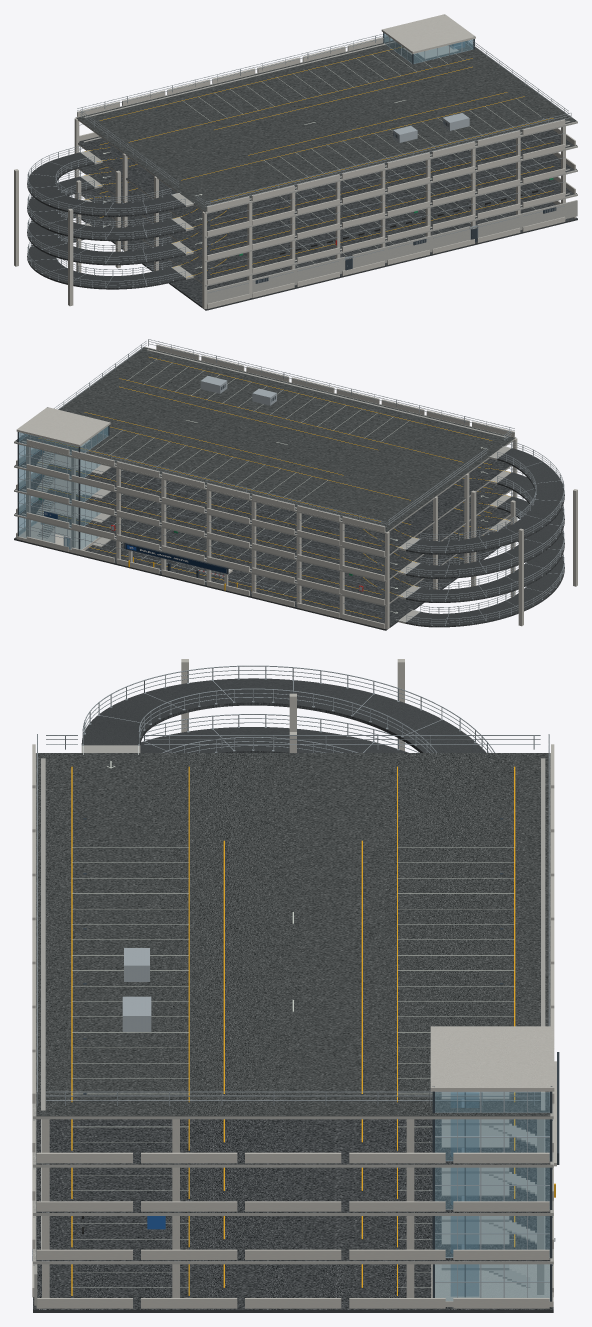
Rendered from RAIL09_lod2.glb.
3 renders of one model, top to bottom at view 1: azimuth 30°, elevation 25°; view 2: azimuth 150°, elevation 25°; view 3: azimuth 270°, elevation 25°, orthographic. The views are drawn at different scales.
Parts seen in each view (by area): view 1: Roof_WearingCourse__roof_asphalt, Structure_WearingCourse__asphalt, Ramps_ContinuousSlabs__asphalt, Facade_ConcreteSpandrels__concrete, Interior_P2_Finish__asphalt, Facade_RearServiceConcrete__structural, Structure_Columns__concrete, Roof_Parapet__concrete, Structure_Slabs__structural, Ramps_GuardrailRails__galvanized, Structure_Ground__asphalt, Interior_EdgeStripes__yellow (+12 smaller); view 2: Roof_WearingCourse__roof_asphalt, Structure_WearingCourse__asphalt, Ramps_ContinuousSlabs__asphalt, Facade_ConcreteSpandrels__concrete, Interior_P2_Finish__asphalt, Structure_Ground__asphalt, StairCore_Glazing__glass, Structure_Columns__concrete, Roof_Parapet__concrete, Structure_Slabs__structural, Ramps_GuardrailRails__galvanized, Interior_EdgeStripes__yellow (+19 smaller); view 3: Roof_WearingCourse__roof_asphalt, Structure_WearingCourse__asphalt, Facade_SideSpandrels__concrete, StairCore_Glazing__glass, Ramps_ContinuousSlabs__asphalt, Structure_Ground__asphalt, Interior_P2_Finish__asphalt, Structure_Slabs__structural, StairCore_Cap__concrete, Interior_StairLandings__structural, Ramps_GuardrailRails__galvanized, Facade_VisibleParkingLines__road_mark (+17 smaller).
Boxes of the visible parts, x1=… form: Roof_WearingCourse__roof_asphalt: x1=77, y1=40, x2=576, y2=211; Structure_WearingCourse__asphalt: x1=78, y1=129, x2=576, y2=257; Ramps_ContinuousSlabs__asphalt: x1=27, y1=152, x2=185, y2=289; Facade_ConcreteSpandrels__concrete: x1=79, y1=132, x2=565, y2=308; Interior_P2_Finish__asphalt: x1=81, y1=178, x2=576, y2=281; Facade_RearServiceConcrete__structural: x1=207, y1=200, x2=577, y2=303; Structure_Columns__concrete: x1=74, y1=118, x2=565, y2=309; Roof_Parapet__concrete: x1=77, y1=36, x2=565, y2=211; Structure_Slabs__structural: x1=75, y1=43, x2=577, y2=286; Ramps_GuardrailRails__galvanized: x1=27, y1=146, x2=185, y2=285; Structure_Ground__asphalt: x1=81, y1=202, x2=577, y2=310; Interior_EdgeStripes__yellow: x1=99, y1=47, x2=553, y2=274; Roof_WearingCourse__roof_asphalt: x1=15, y1=347, x2=514, y2=531; Structure_WearingCourse__asphalt: x1=15, y1=450, x2=510, y2=577; Ramps_ContinuousSlabs__asphalt: x1=406, y1=448, x2=564, y2=627; Facade_ConcreteSpandrels__concrete: x1=26, y1=464, x2=384, y2=628; Interior_P2_Finish__asphalt: x1=15, y1=499, x2=510, y2=601; Structure_Ground__asphalt: x1=14, y1=531, x2=499, y2=630; StairCore_Glazing__glass: x1=19, y1=426, x2=108, y2=549; Structure_Columns__concrete: x1=26, y1=438, x2=517, y2=629; Roof_Parapet__concrete: x1=26, y1=344, x2=514, y2=531; Structure_Slabs__structural: x1=14, y1=347, x2=516, y2=606; Ramps_GuardrailRails__galvanized: x1=406, y1=441, x2=564, y2=623; Interior_EdgeStripes__yellow: x1=38, y1=357, x2=492, y2=618; Roof_WearingCourse__roof_asphalt: x1=36, y1=753, x2=550, y2=1116; Structure_WearingCourse__asphalt: x1=36, y1=1119, x2=550, y2=1212; Facade_SideSpandrels__concrete: x1=36, y1=1152, x2=549, y2=1308; StairCore_Glazing__glass: x1=435, y1=1092, x2=549, y2=1300; Ramps_ContinuousSlabs__asphalt: x1=81, y1=678, x2=486, y2=752; Structure_Ground__asphalt: x1=33, y1=1264, x2=553, y2=1312; Interior_P2_Finish__asphalt: x1=36, y1=1216, x2=550, y2=1261; Structure_Slabs__structural: x1=33, y1=753, x2=553, y2=1264; StairCore_Cap__concrete: x1=430, y1=1026, x2=554, y2=1091; Interior_StairLandings__structural: x1=441, y1=1092, x2=509, y2=1270; Ramps_GuardrailRails__galvanized: x1=82, y1=665, x2=494, y2=752; Facade_VisibleParkingLines__road_mark: x1=72, y1=847, x2=514, y2=1287.
Size of the model in its own units: 83.65 by 18.89 by 40.5.
Materials: 21 (21 with a texture image).
